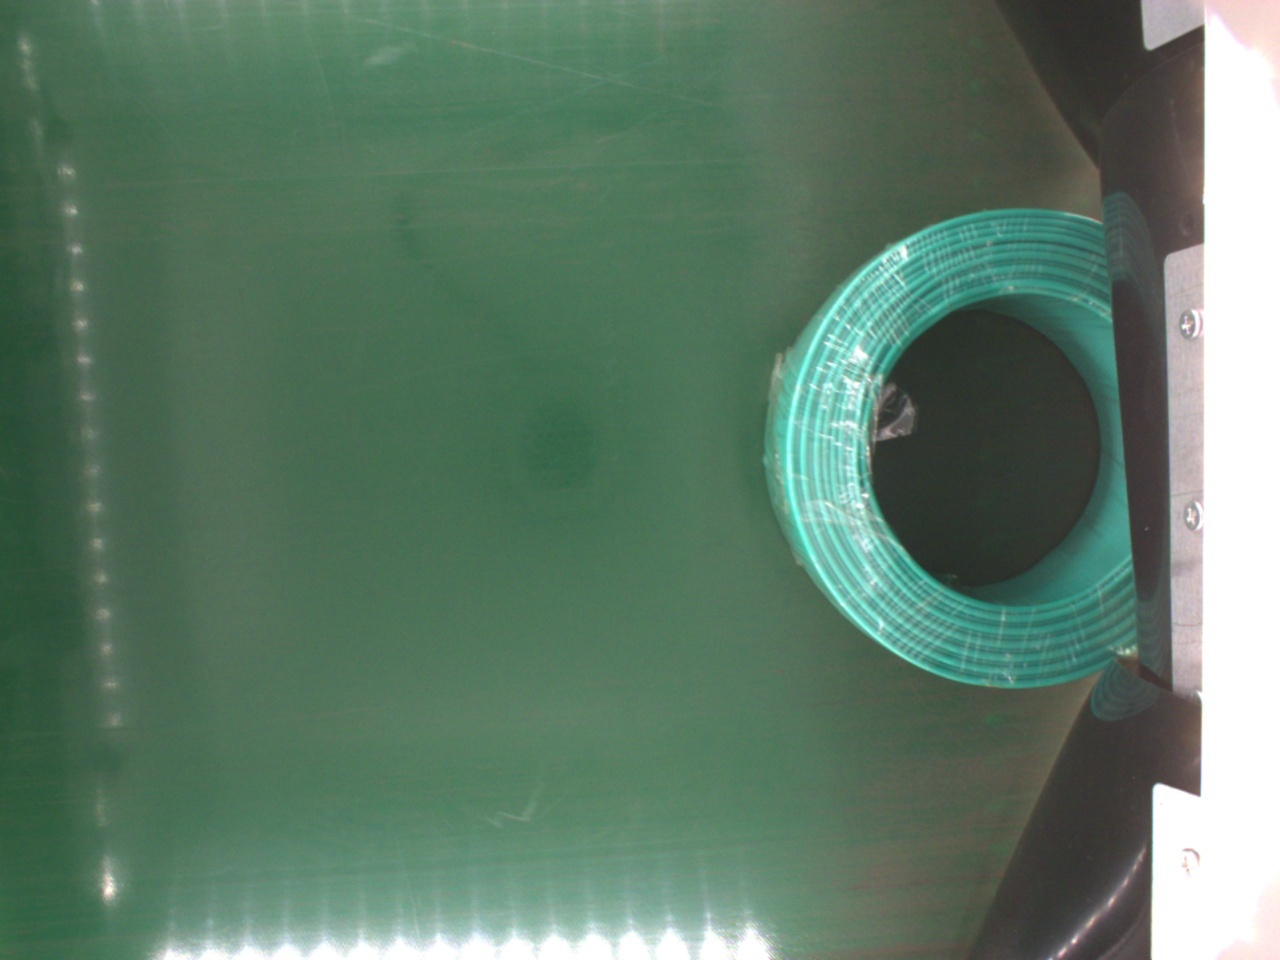green: (776, 208, 1135, 685)
